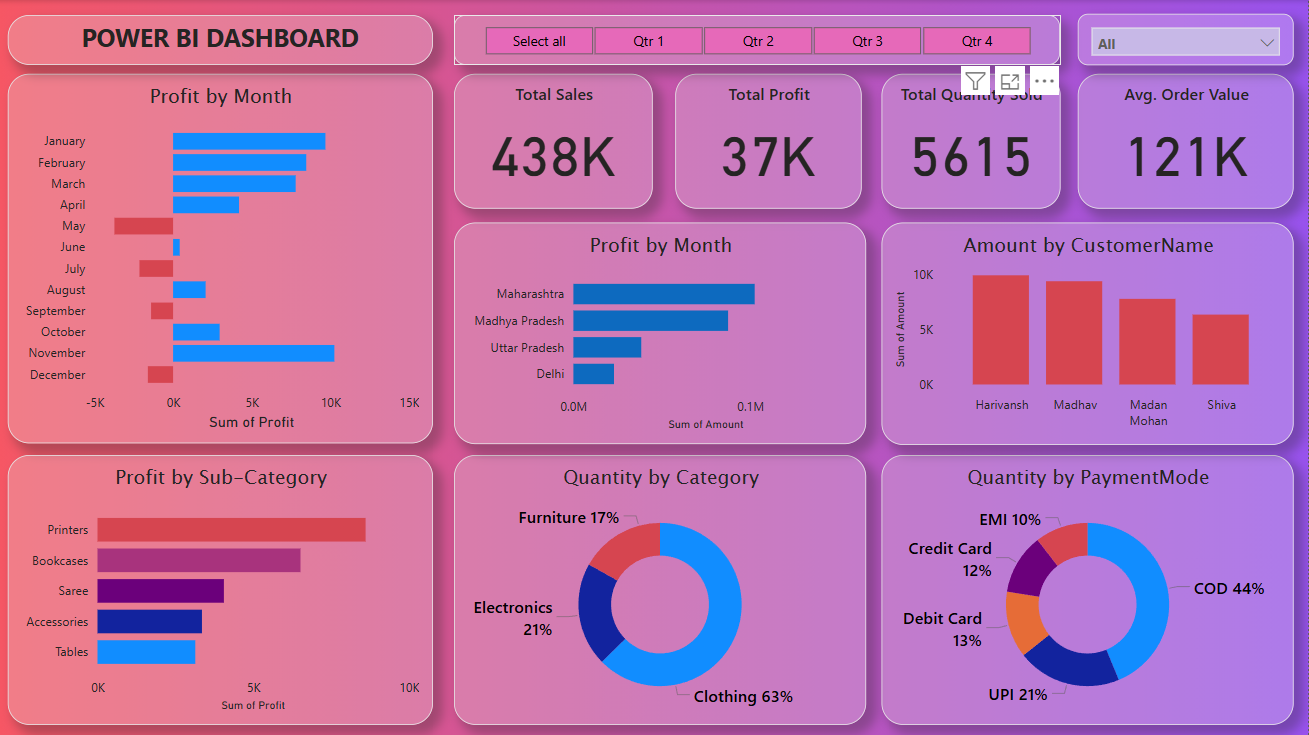

The dashboard page shown, as its layout file describes it:
{"tool":"powerbi","page":{"name":"Page 1","canvas":[1280,720],"ordinal":0},"visuals":[{"type":"barChart","title":"Profit by Month","fields":{"Category":["Orders.Order Date.Variation.Date Hierarchy.Month"],"Y":["Details.Profit"]},"box":[8.6,72.1,415.8,362],"z":0},{"type":"barChart","title":"Profit by Sub-Category","fields":{"Category":["Details.Sub-Category"],"Y":["Details.Profit"]},"box":[8.6,445.1,415.8,264.1],"z":1000},{"type":"textbox","box":[8.6,14.7,415.8,48.9],"z":2000},{"type":"donutChart","title":"Quantity by Category","fields":{"Category":["Details.Category"],"Y":["Details.Quantity"]},"box":[445.1,445.1,403.5,264.1],"z":3000},{"type":"donutChart","title":"Quantity by PaymentMode","fields":{"Y":["Details.Quantity"],"Category":["Details.PaymentMode"]},"box":[863.3,445.1,403.5,264.1],"z":4000},{"type":"card","title":"Total Sales","fields":{"Values":["Details.Amount"]},"box":[445.1,72.1,194.4,132.1],"z":5000},{"type":"card","title":"Total Profit","fields":{"Values":["Details.Profit"]},"box":[661.6,72.1,182.2,132.1],"z":6000},{"type":"card","title":"Total Quantity Sold","fields":{"Values":["Details.Quantity"]},"box":[863.3,72.1,174.9,132.1],"z":7000},{"type":"card","title":"Avg. Order Value","fields":{"Values":["Details.Avg Order Value"]},"box":[1055.3,72.1,211.6,132.1],"z":8000},{"type":"barChart","title":"Profit by Month","fields":{"Category":["Orders.State"],"Y":["Details.Amount"]},"box":[445.1,217.7,403.5,216.4],"z":9000},{"type":"columnChart","title":"Amount by CustomerName","fields":{"Category":["Orders.CustomerName"],"Y":["Details.Amount"]},"box":[863.3,217.7,403.5,217.7],"z":10000},{"type":"slicer","fields":{"Values":["Orders.Order Date.Variation.Date Hierarchy.Quarter"]},"box":[445.1,14.7,593.1,48.9],"z":11000},{"type":"slicer","fields":{"Values":["Orders.State"]},"box":[1055.3,13.5,211.6,50.1],"z":12000}]}

Visuals, with their boxes in screenshot pixels (x1, y1, x2, y2), scaled from the page's 1280x720 canvas onto the 1309x735 screenshot:
"Profit by Month" barChart: [9, 74, 434, 443]
"Profit by Sub-Category" barChart: [9, 454, 434, 724]
textbox: [9, 15, 434, 65]
"Quantity by Category" donutChart: [455, 454, 868, 724]
"Quantity by PaymentMode" donutChart: [883, 454, 1296, 724]
"Total Sales" card: [455, 74, 654, 208]
"Total Profit" card: [677, 74, 863, 208]
"Total Quantity Sold" card: [883, 74, 1062, 208]
"Avg. Order Value" card: [1079, 74, 1296, 208]
"Profit by Month" barChart: [455, 222, 868, 443]
"Amount by CustomerName" columnChart: [883, 222, 1296, 444]
slicer - Orders.Order Date.Variation.Date Hierarchy.Quarter: [455, 15, 1062, 65]
slicer - Orders.State: [1079, 14, 1296, 65]
